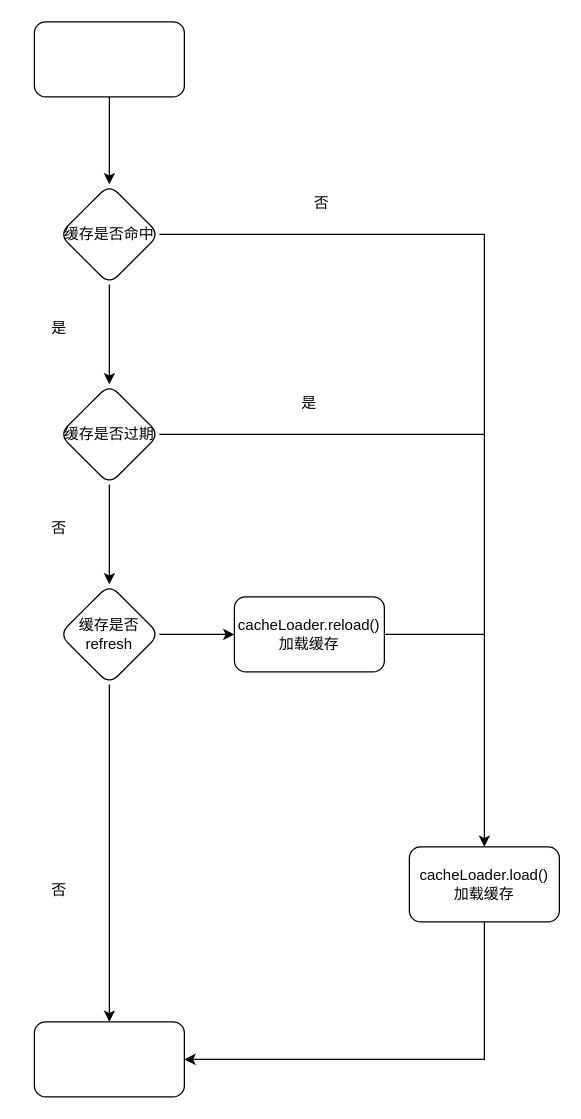
The diagram is 581 pixels wide and 1119 high, and some of its shapes have lost their labels. Here are the shapes that lost their labels. From the top down, the box of each, then its label:
(33, 21, 184, 97): get key
(33, 1021, 184, 1097): 返回结果
